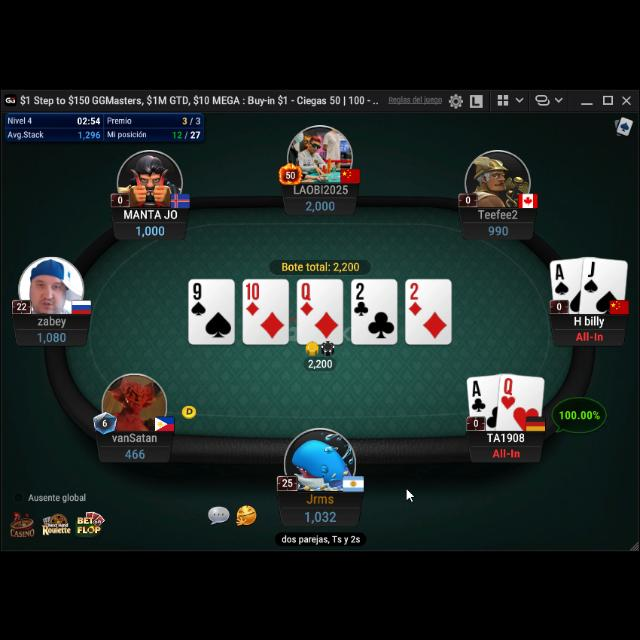2c: (352, 279, 370, 317)
2d: (408, 279, 422, 315)
6s: (190, 278, 208, 316)
9s: (190, 278, 208, 316)
Ac: (470, 376, 488, 412)
As: (553, 260, 571, 294)
Js: (582, 256, 600, 292)
Qd: (298, 278, 316, 316)
Qh: (499, 374, 516, 408)
Td: (245, 279, 261, 315)
all_in_symbol: (492, 444, 520, 458), (575, 328, 605, 340)
bet_text: (307, 355, 333, 367)
dealer: (181, 401, 197, 417)
pot_text: (281, 258, 361, 270)
stack_text: (303, 506, 337, 522), (36, 328, 68, 342), (304, 196, 336, 210), (136, 221, 166, 235), (124, 444, 148, 458), (486, 220, 509, 234)
